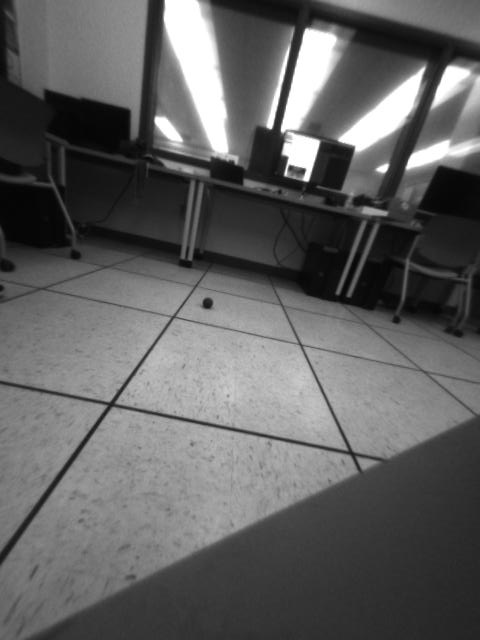dogtoy: (192, 290, 222, 313)
